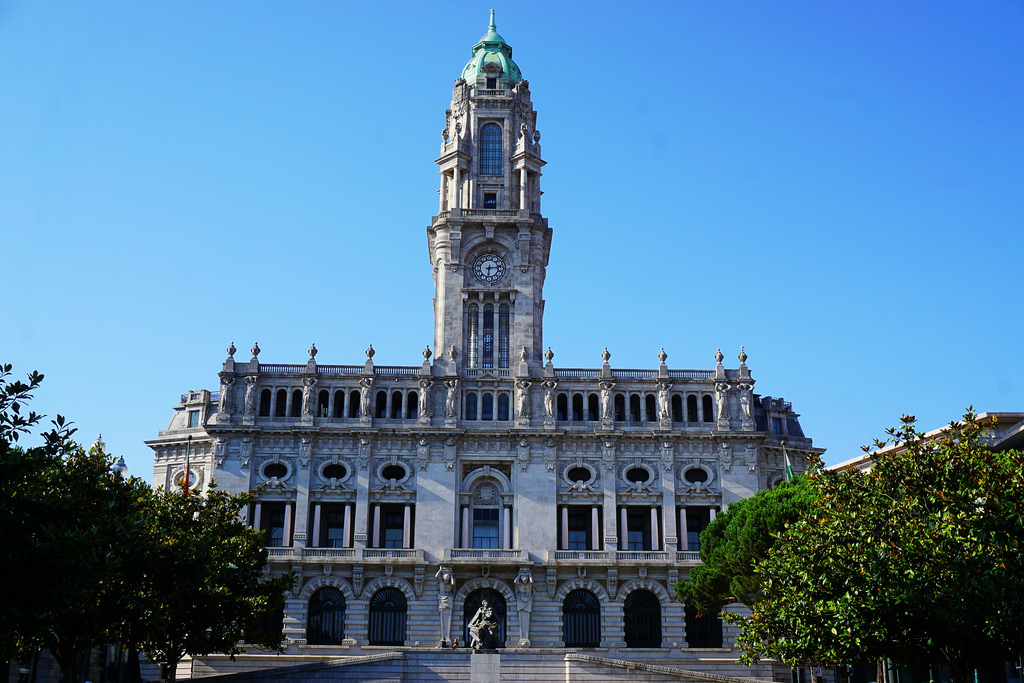camara: (141, 8, 838, 682)
